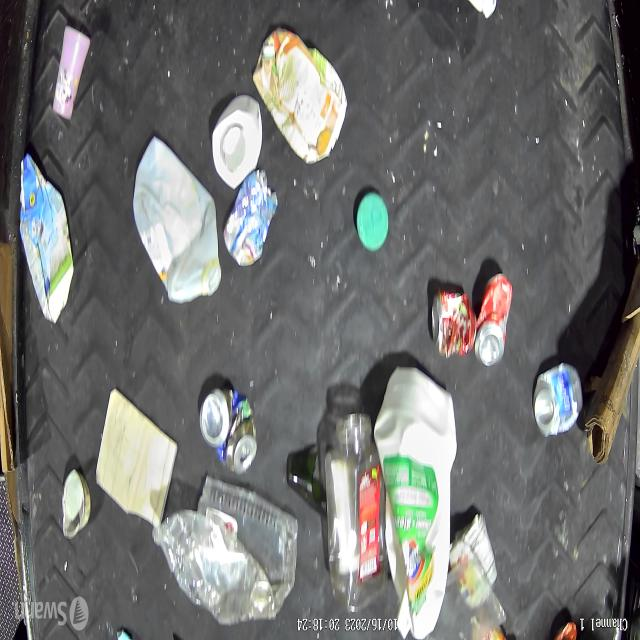can: (197, 372, 256, 480), (225, 162, 278, 274), (533, 356, 585, 437), (472, 267, 512, 370), (432, 286, 478, 374), (66, 462, 98, 544)
milk_jug: (373, 365, 456, 640), (128, 133, 220, 309)
non_white_jug: (253, 27, 347, 165)
